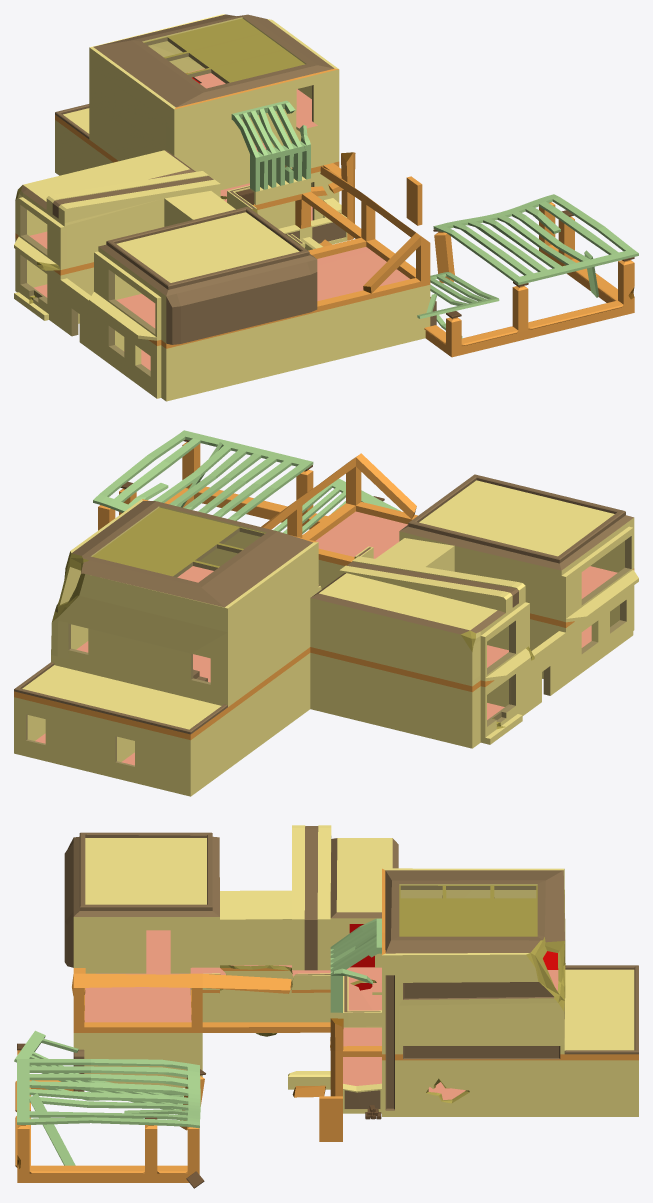
Rendered from Villa 1 uberarbeitet.fbx.
The picture shows the model from 3 angles, top to bottom: view 1: azimuth 30°, elevation 25°; view 2: azimuth 150°, elevation 25°; view 3: azimuth 270°, elevation 25°; orthographic projection. The views are drawn at different scales.
Visible parts, largest first — view 1: Wichtig _LOD0; view 2: Wichtig _LOD0; view 3: Wichtig _LOD0.
Part boxes in pixels (x1,y1,x2,y2): Wichtig _LOD0: (14, 14, 638, 401); Wichtig _LOD0: (14, 430, 638, 796); Wichtig _LOD0: (14, 825, 638, 1188).
Size of the model in its own units: 3169 by 1002 by 3386.
